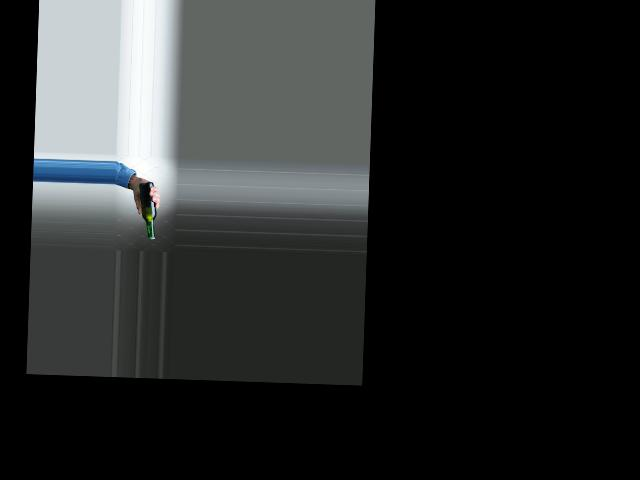beer: (136, 182, 157, 239)
